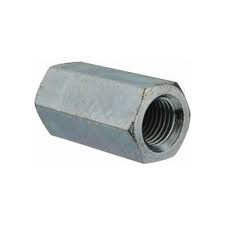Thread: (134, 90, 187, 160)
